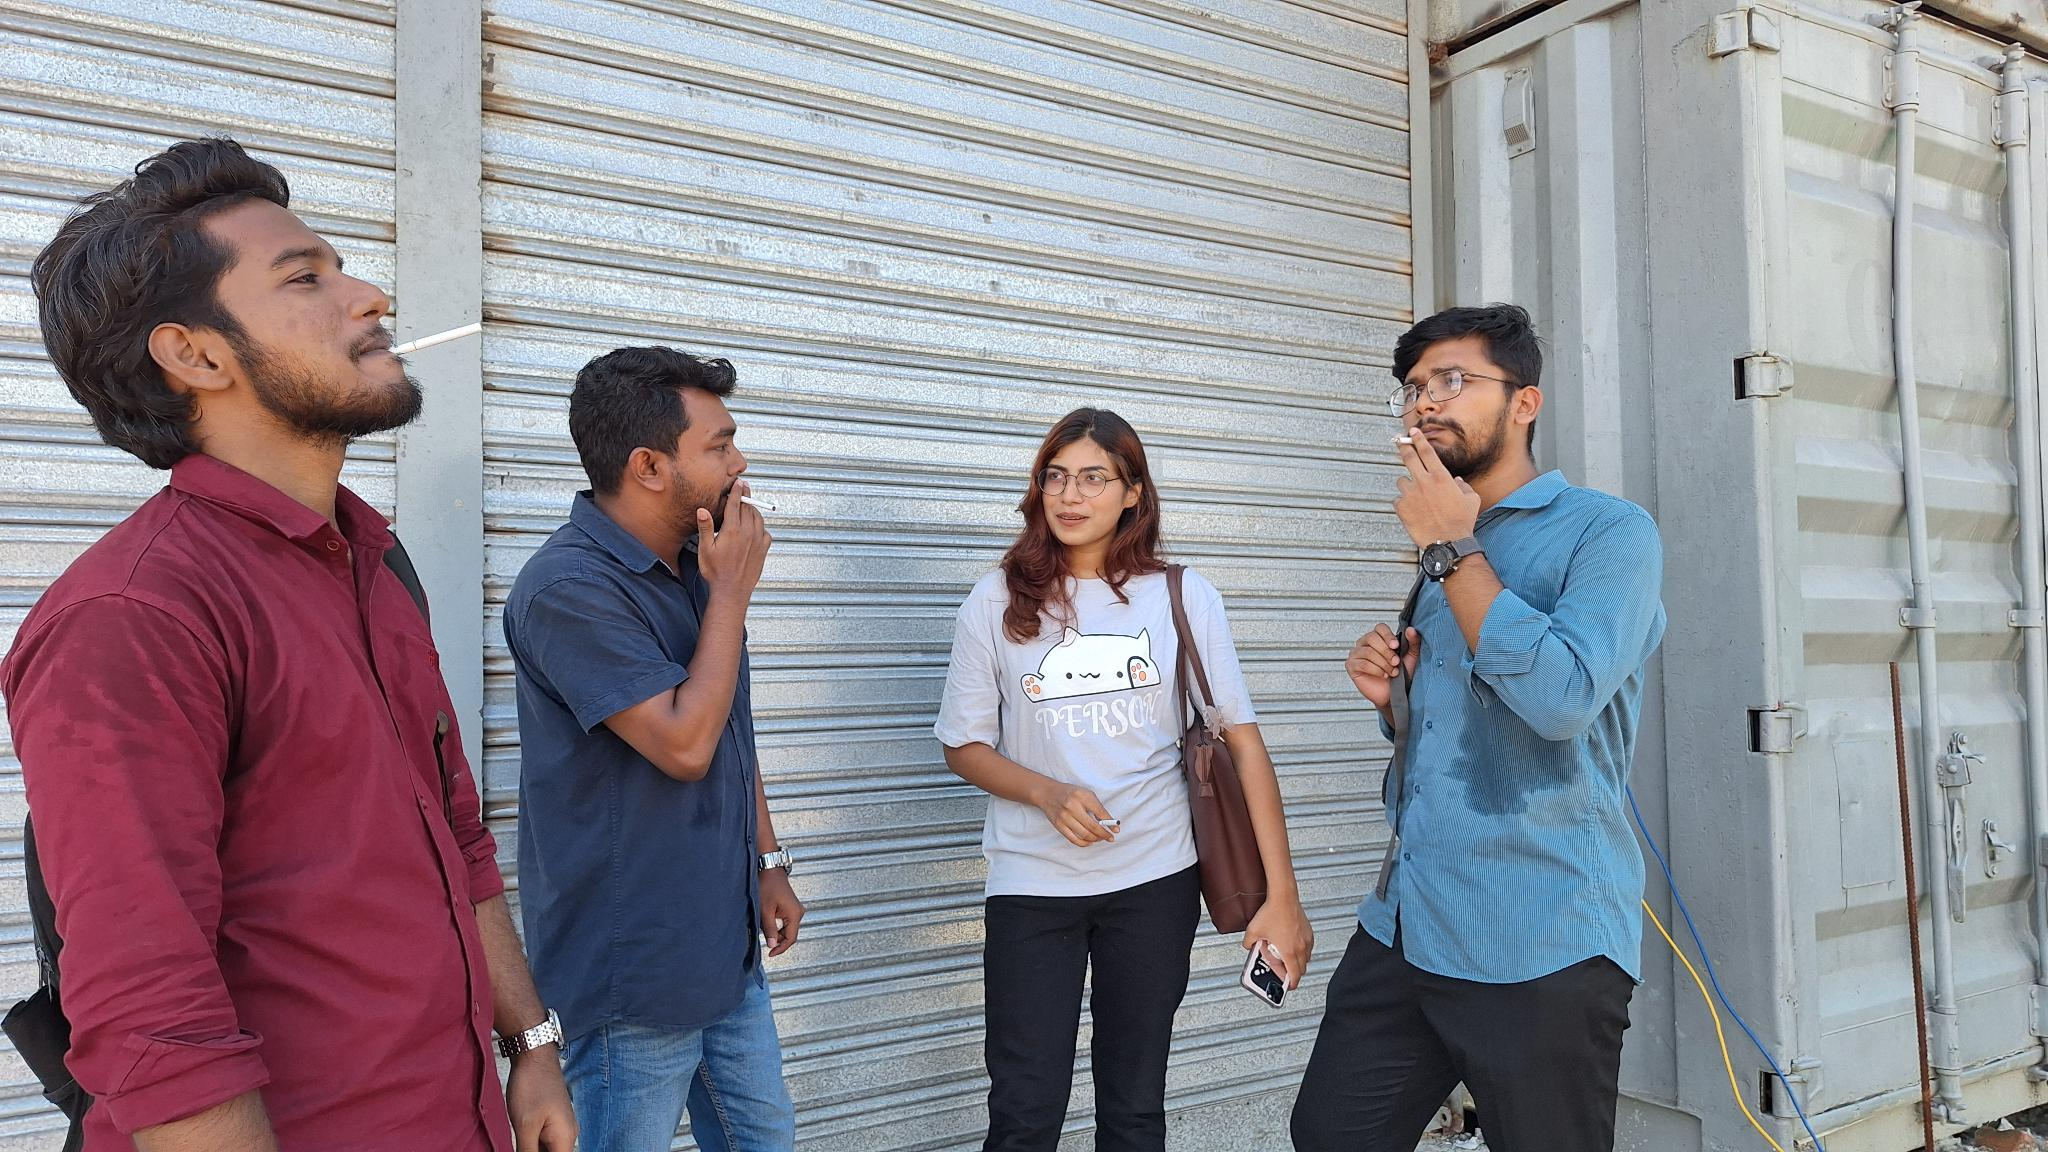cigarette: (384, 319, 487, 359), (738, 494, 778, 512), (1094, 817, 1124, 831), (1388, 436, 1416, 446)
smoker: (0, 136, 578, 1152), (1290, 304, 1670, 1152), (931, 408, 1315, 1152), (504, 346, 807, 1152)
